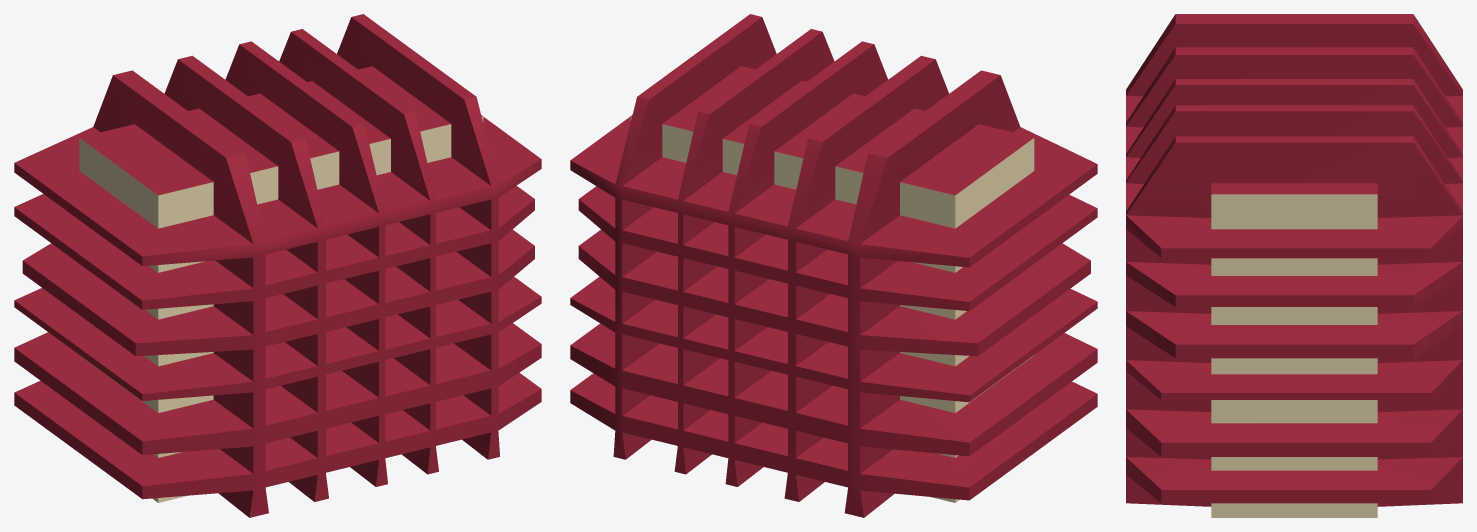
Rendered from Building2.obj.
3 views of the same model, side by side, from view 1: azimuth 30°, elevation 25°; view 2: azimuth 150°, elevation 25°; view 3: azimuth 270°, elevation 25° (orthographic). The views are drawn at different scales.
Parts seen in each view (by area): view 1: pCube4; view 2: pCube4; view 3: pCube4.
Boxes of the visible parts, box(x1,y1,x2,y2) form: pCube4: box(14, 14, 541, 517); pCube4: box(570, 14, 1097, 517); pCube4: box(1126, 14, 1462, 517).
Bounding box in the file's own units: 1659 × 1371 × 1153.
